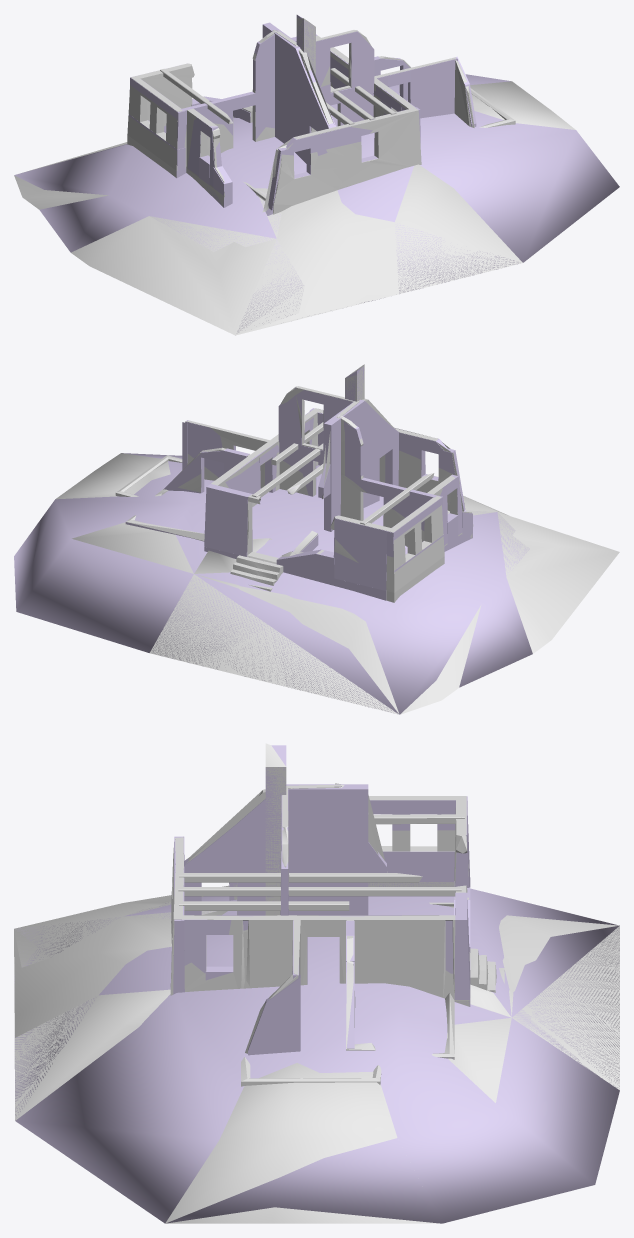
File: ruin building.fbx
The picture shows the model from 3 angles, top to bottom: view 1: azimuth 30°, elevation 25°; view 2: azimuth 150°, elevation 25°; view 3: azimuth 270°, elevation 25°; orthographic projection. The views are drawn at different scales.
Parts seen in each view (by area): view 1: UTM_Ground, 1, 2, 3; view 2: UTM_Ground, 1, 2, 3; view 3: UTM_Ground, 1, 2, 3.
Part boxes in pixels (x1,y1,x2,y2): UTM_Ground: [14, 15, 619, 332]; 1: [14, 18, 575, 335]; 2: [132, 18, 522, 335]; 3: [147, 52, 418, 209]; UTM_Ground: [14, 366, 532, 714]; 1: [55, 364, 619, 714]; 2: [72, 367, 529, 714]; 3: [218, 389, 463, 511]; UTM_Ground: [14, 745, 619, 1223]; 1: [14, 743, 618, 1223]; 2: [14, 745, 619, 1120]; 3: [172, 788, 438, 942].
Size of the model in its own units: 2189 by 924 by 1730.
